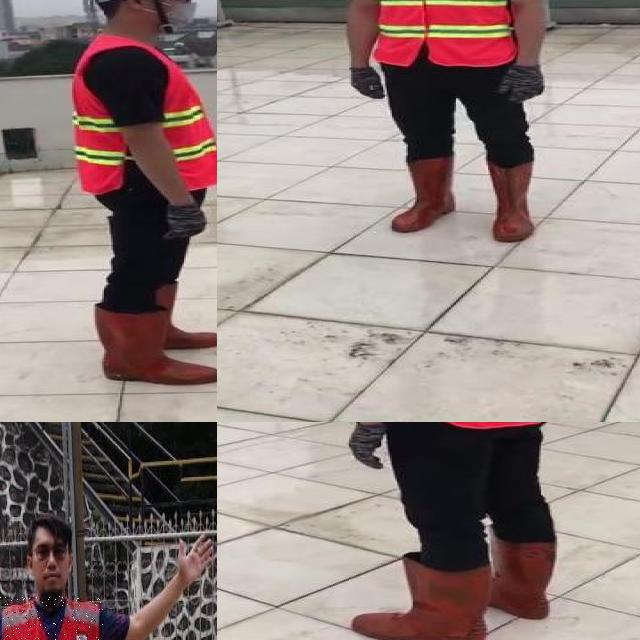boots: (352, 559, 489, 640), (93, 300, 217, 386), (493, 526, 559, 621), (390, 155, 454, 235), (146, 278, 217, 349), (481, 159, 539, 244)
face_mask: (144, 0, 206, 31)
hand_glove: (156, 201, 210, 241), (349, 422, 390, 469), (495, 67, 547, 103), (346, 65, 386, 100)
person: (327, 422, 610, 640), (58, 0, 217, 386), (334, 0, 561, 248)
vest: (70, 31, 217, 195), (360, 0, 520, 65), (0, 596, 105, 640)
